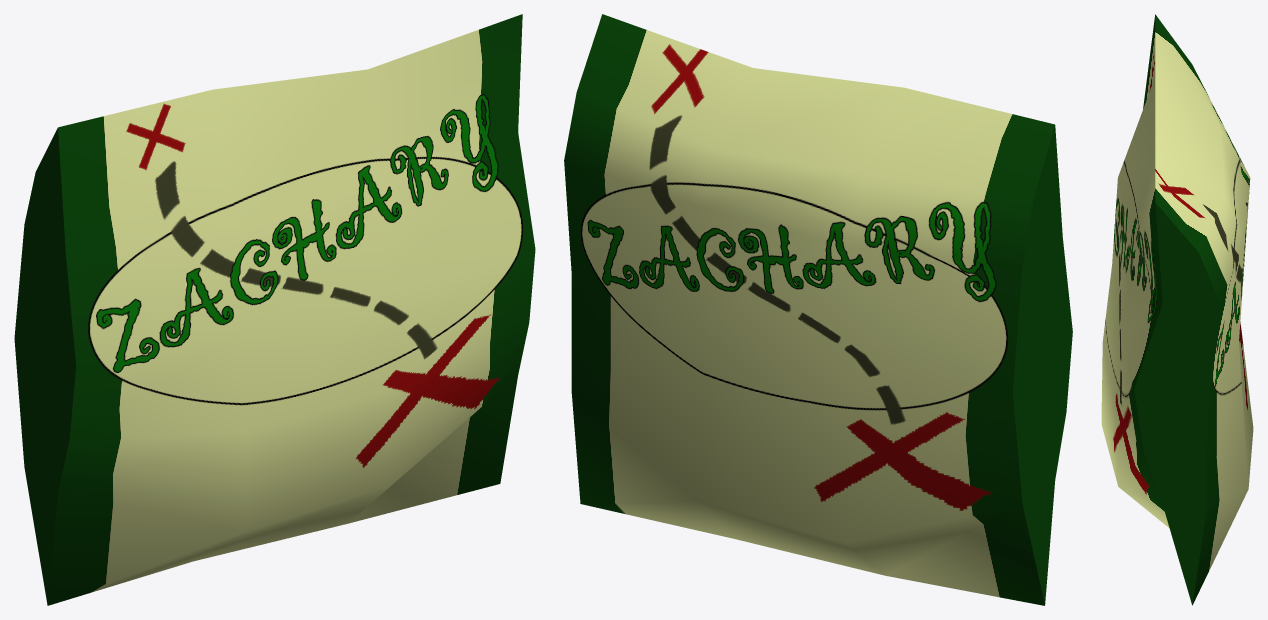
Rendered from ShopchipBag.fbx.
3 views of the same model, side by side, from view 1: azimuth 30°, elevation 25°; view 2: azimuth 150°, elevation 25°; view 3: azimuth 270°, elevation 25° (orthographic). The views are drawn at different scales.
Visible parts, largest first — view 1: AndrewChips; view 2: AndrewChips; view 3: AndrewChips.
Part boxes in pixels (x1,y1,x2,y2): AndrewChips: (14,14,535,605); AndrewChips: (564,14,1072,605); AndrewChips: (1101,14,1253,605).
Size of the model in its own units: 1 by 1 by 0.3412.
